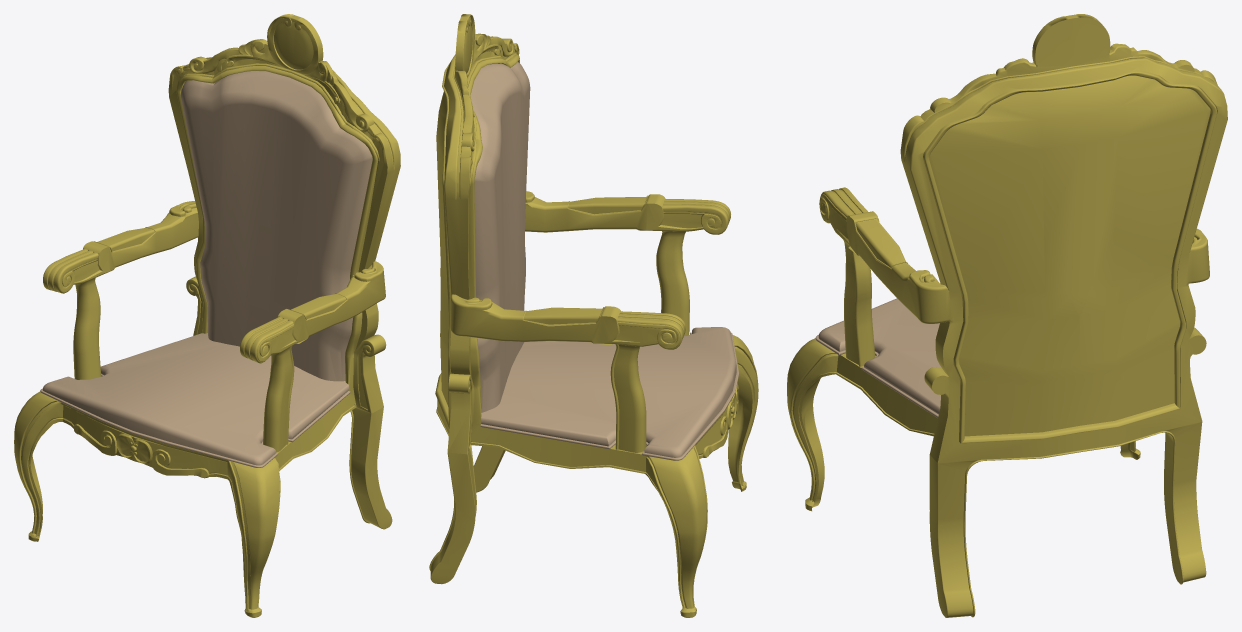
The model's file is vintage_chair.glb.
3 renders of one model, left to right at view 1: azimuth 30°, elevation 25°; view 2: azimuth 150°, elevation 25°; view 3: azimuth 270°, elevation 25°, orthographic. The views are drawn at different scales.
Parts seen in each view (by area): view 1: Object_3, Object_2; view 2: Object_2, Object_3; view 3: Object_2, Object_3.
Boxes of the visible parts, x1,y1,x2,y2 form: Object_3: (40,71,372,467); Object_2: (14,14,400,617); Object_2: (429,14,758,617); Object_3: (470,62,739,460); Object_2: (787,14,1227,617); Object_3: (815,283,941,417).
Bounding box in the file's own units: 3.01 × 4.69 × 3.24.
